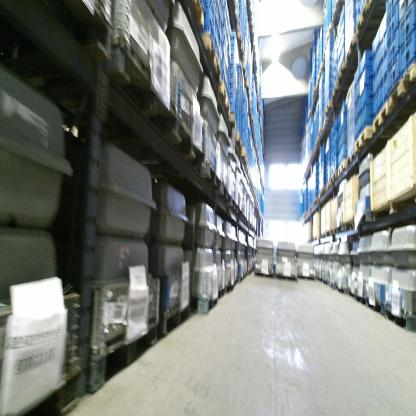pallet: (107, 40, 179, 122), (87, 318, 160, 395), (63, 2, 126, 70), (155, 117, 207, 172), (22, 374, 86, 411), (371, 93, 415, 136), (389, 63, 415, 112), (164, 299, 192, 340), (199, 35, 222, 84), (355, 1, 385, 38), (345, 34, 378, 65), (354, 125, 389, 152), (383, 305, 414, 330), (183, 0, 206, 33), (197, 162, 221, 190), (215, 78, 231, 117), (190, 292, 217, 314), (337, 61, 360, 83), (210, 184, 231, 207), (327, 2, 347, 26), (331, 82, 352, 101), (225, 0, 238, 27), (326, 25, 343, 45), (323, 113, 344, 129), (233, 28, 243, 60), (325, 101, 346, 116), (221, 278, 238, 296), (364, 298, 383, 313), (354, 292, 369, 309), (245, 83, 252, 117), (346, 151, 359, 169), (234, 129, 244, 152), (253, 269, 276, 279), (276, 273, 298, 283), (338, 157, 348, 178), (318, 127, 334, 140), (228, 116, 238, 135), (228, 197, 238, 216), (237, 146, 247, 161), (330, 169, 339, 185), (216, 285, 224, 301), (240, 67, 246, 86), (297, 275, 316, 281), (249, 114, 256, 129), (242, 213, 249, 227), (337, 224, 345, 236), (329, 226, 337, 238), (326, 178, 333, 191), (237, 206, 243, 221), (318, 186, 326, 197), (243, 163, 249, 175), (313, 198, 319, 206), (258, 109, 262, 118)
small_load_carrier: (395, 30, 415, 78), (400, 4, 415, 56), (386, 32, 403, 69), (385, 3, 400, 43), (387, 56, 402, 96), (359, 84, 378, 110), (361, 102, 378, 130), (360, 64, 377, 91), (372, 43, 384, 79), (361, 50, 376, 77), (378, 54, 389, 87), (205, 8, 218, 35), (221, 22, 231, 57), (204, 26, 216, 52), (400, 1, 413, 25), (221, 41, 230, 74), (379, 33, 388, 66), (336, 47, 347, 74), (210, 41, 220, 70), (380, 74, 388, 110), (351, 115, 362, 141), (222, 58, 231, 89), (385, 1, 397, 24), (372, 90, 381, 120), (372, 65, 380, 98), (372, 27, 379, 62), (337, 117, 349, 137), (352, 76, 361, 101), (223, 74, 230, 103), (379, 21, 387, 46), (338, 33, 347, 55), (354, 94, 361, 121), (337, 130, 346, 151), (217, 7, 223, 38), (329, 121, 338, 141), (337, 20, 345, 42), (216, 26, 222, 55), (206, 1, 218, 15), (336, 147, 345, 165), (330, 133, 338, 152), (230, 32, 238, 50), (330, 146, 338, 164), (330, 158, 338, 176), (339, 104, 346, 123), (234, 118, 241, 136), (229, 91, 236, 108), (339, 9, 345, 27), (229, 79, 235, 96), (231, 45, 237, 62), (229, 103, 236, 117), (229, 71, 236, 84), (236, 76, 242, 90), (237, 90, 242, 106), (234, 106, 241, 117), (238, 6, 243, 18), (231, 59, 235, 72), (238, 59, 241, 75), (238, 24, 242, 34), (239, 13, 242, 26), (239, 1, 243, 9)
